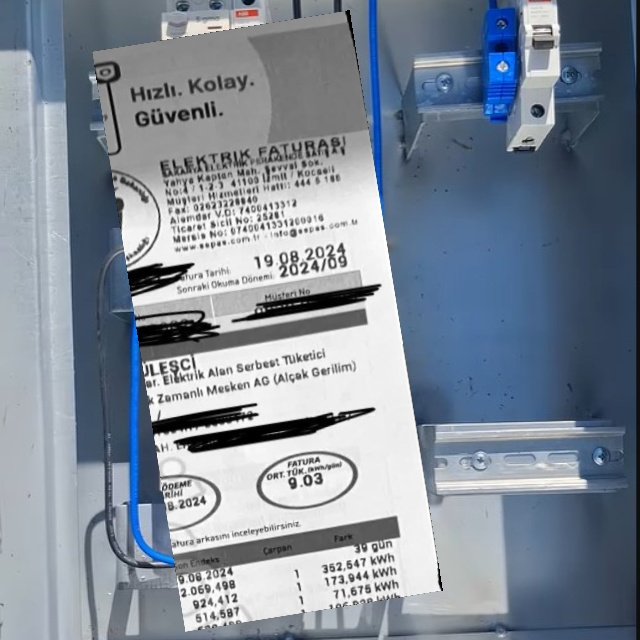electricity-bill: (91, 9, 442, 631)
